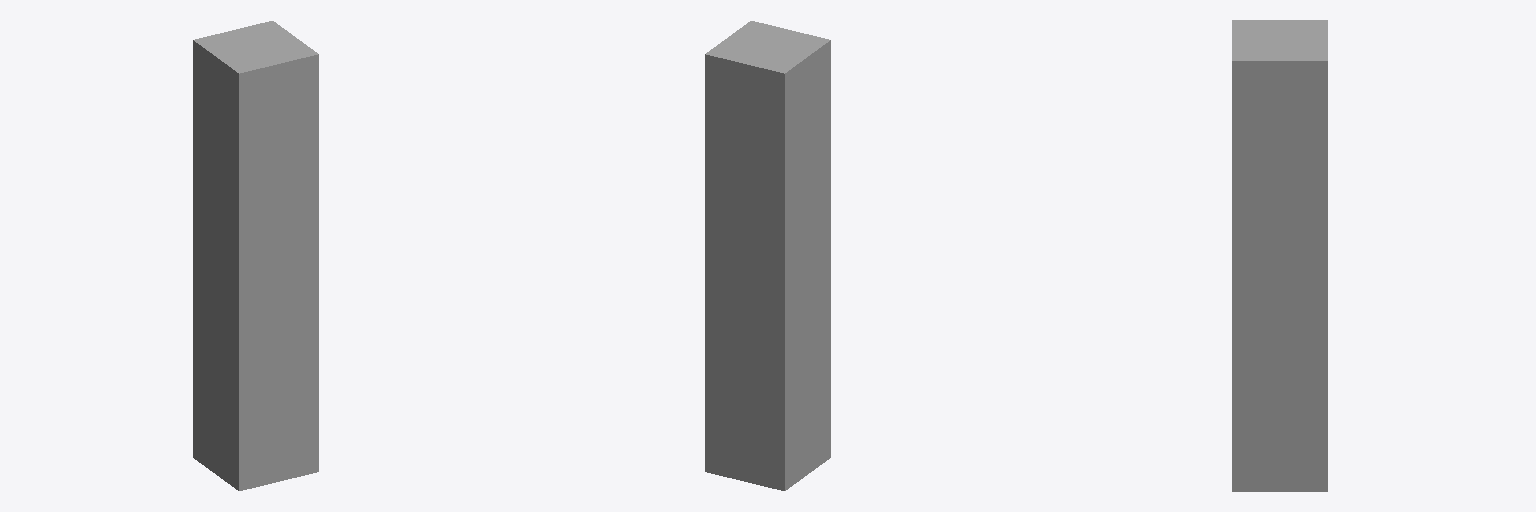
URDF robot description (F20_20_B):
<?xml version="1.0"?>
<robot name="F20_20_B">
  <link name="base_link">
    <visual>
      <origin xyz="0.0 0.0 0.0" rpy="0.0 0.0 0.0"/>
      <geometry>
        <box size="0.02 0.02 0.1"/>
        <!-- <mesh filename="package://my_simulation/meshes/2020_alu_profile.stl"/>-->
      </geometry>
      <material name="aluminum">
        <color rgba="0.7 0.7 0.7 1.0"/>
      </material>
    </visual>
    <collision>
      <origin xyz="0 0 0.0" rpy="0 0 0"/>
      <geometry>
        <box size="0.02 0.02 0.1"/>
      </geometry>
    </collision>
    <inertial>
      <origin xyz="0.0 0.0 0.0" rpy="0 0 0"/>
      <mass value="0.1"/>
      <inertia
        ixx="0.0000873" ixy="0.0" ixz="0.0"
        iyy="0.0000873" iyz="0.0"
        izz="0.000067"/>
    </inertial>
  </link>
  <gazebo reference="base_link">
    <material>Gazebo/DarkGrey</material>
    <mu1>0.9</mu1>
    <mu2>0.9</mu2>
    <kp>1000000.0</kp>
    <kd>100.0</kd>
    <minDepth>0.001</minDepth>
    <maxVel>1.0</maxVel>
  </gazebo>
</robot>

--- Facts derived from the render (not from the file) ---
Views: 3 orthographic renders of the robot side by side, from view 1: azimuth 30°, elevation 25°; view 2: azimuth 150°, elevation 25°; view 3: azimuth 270°, elevation 25°.
Robot: F20_20_B — 1 links, 0 joints (none); root link base_link; default pose: all joints at 0.
Links seen in each view (by area): view 1: base_link; view 2: base_link; view 3: base_link.
Boxes of the visible links, bbox=[...] form: base_link: bbox=[193, 21, 318, 490]; base_link: bbox=[705, 21, 830, 490]; base_link: bbox=[1232, 20, 1327, 491].
Size in the robot's own frame: 0.02 by 0.02 by 0.1 metres.
Geometry: primitives only (box / cylinder / sphere), no mesh files.